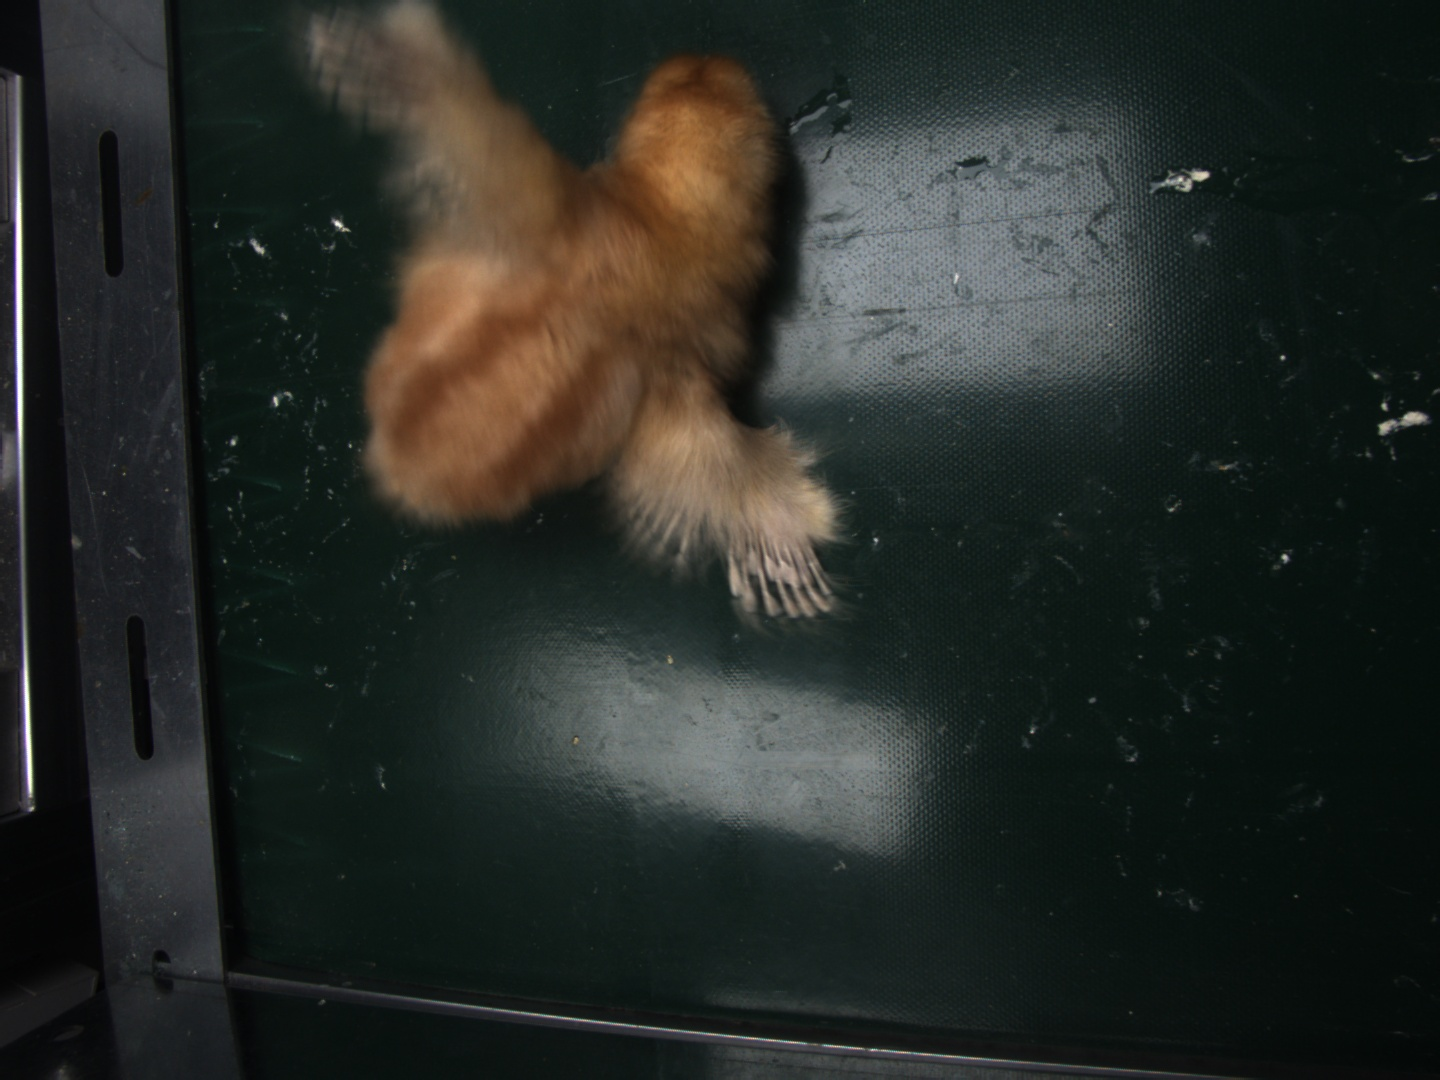female: (729, 531, 845, 622)
